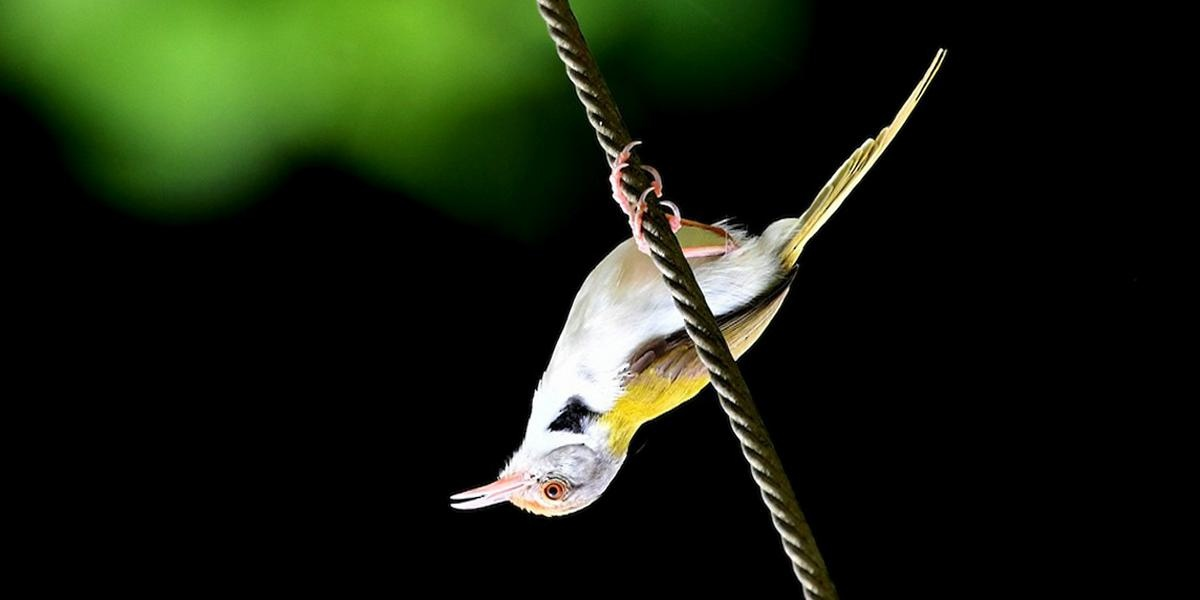tailorbird: (433, 75, 950, 546)
